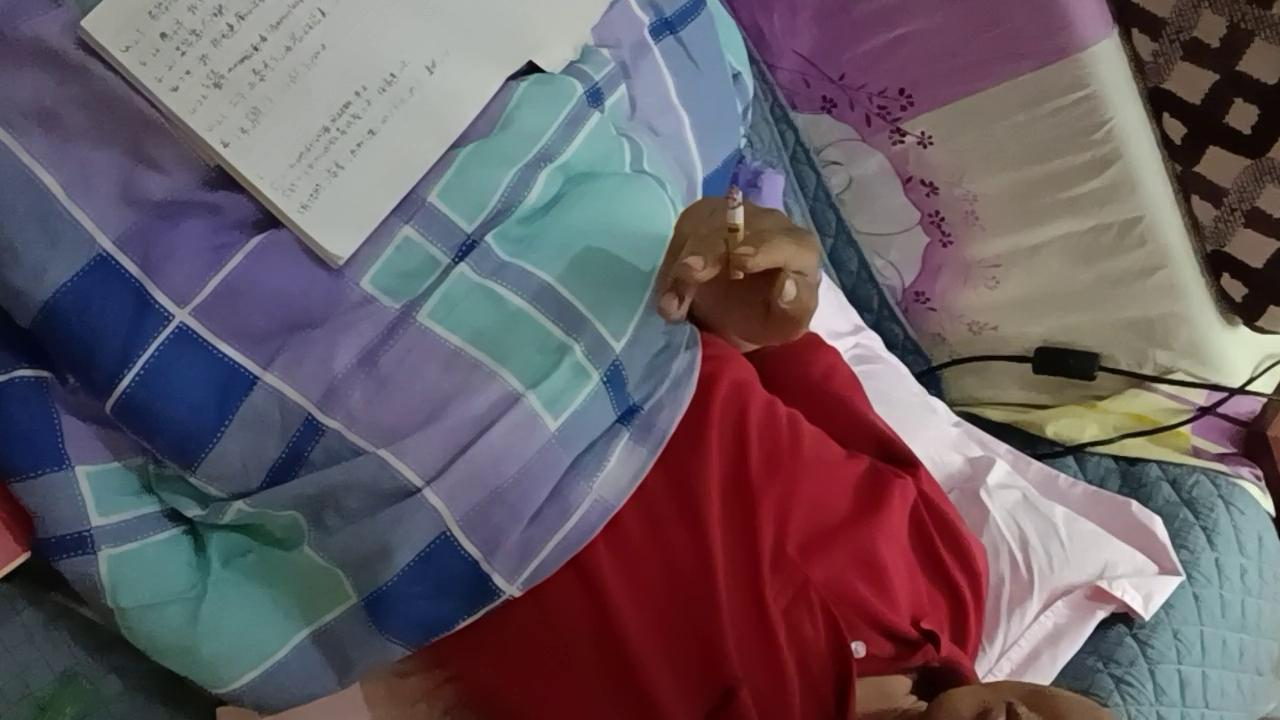smoke: (725, 183, 744, 282)
